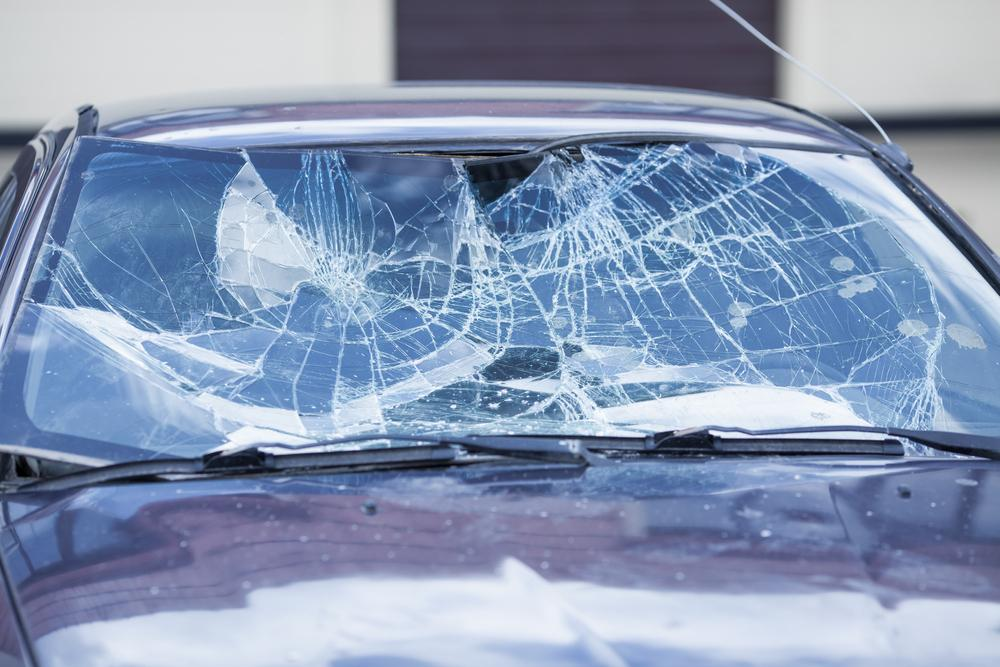glass shatter: (0, 137, 1000, 466)
